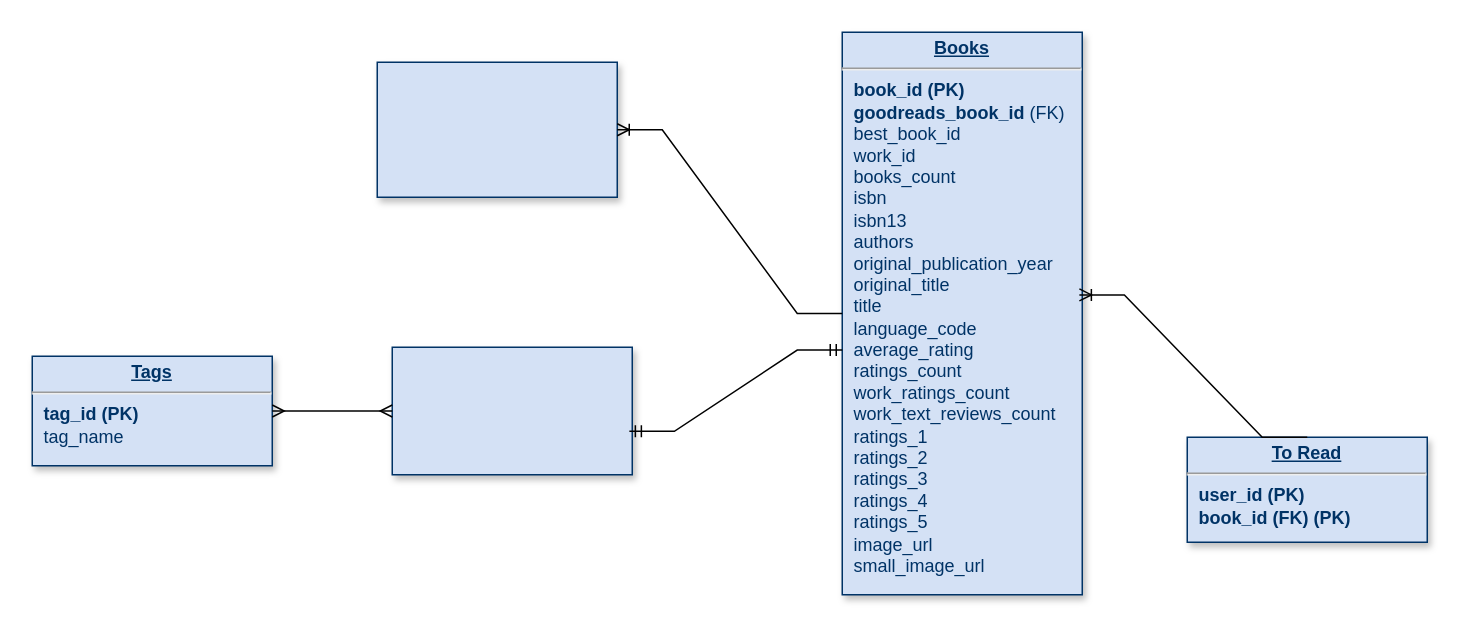
Image size: 1463x632. Some labels were removed from this diagram. The shapes that lost their labels are listed below. From the top down, each one's centre as x and y in pixels, then its label:
(498,131): Ratings user_id (PK) book_id (FK) (PK) rating
(513,412): Book_tags goodreads_book_id (PK) tag_id (FK) count
